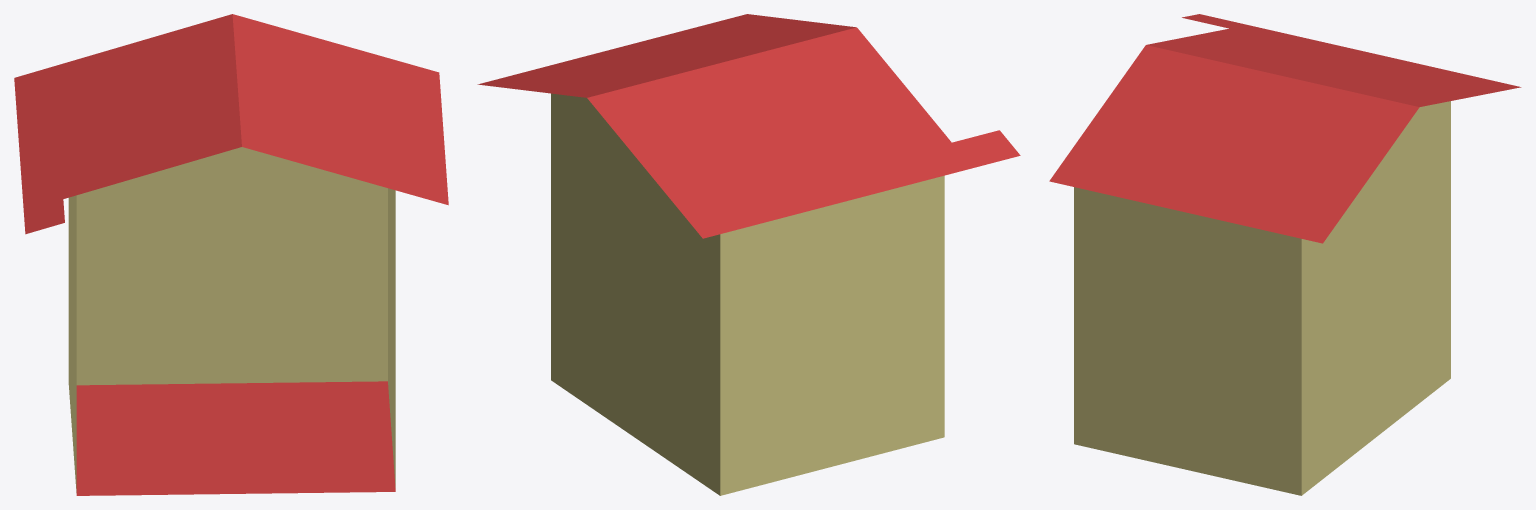
3 views of the same model, side by side, from view 1: azimuth 30°, elevation 25°; view 2: azimuth 150°, elevation 25°; view 3: azimuth 270°, elevation 25° (orthographic). The views are drawn at different scales.
Size of the model in its own units: 10.37 by 9.03 by 7.22.
